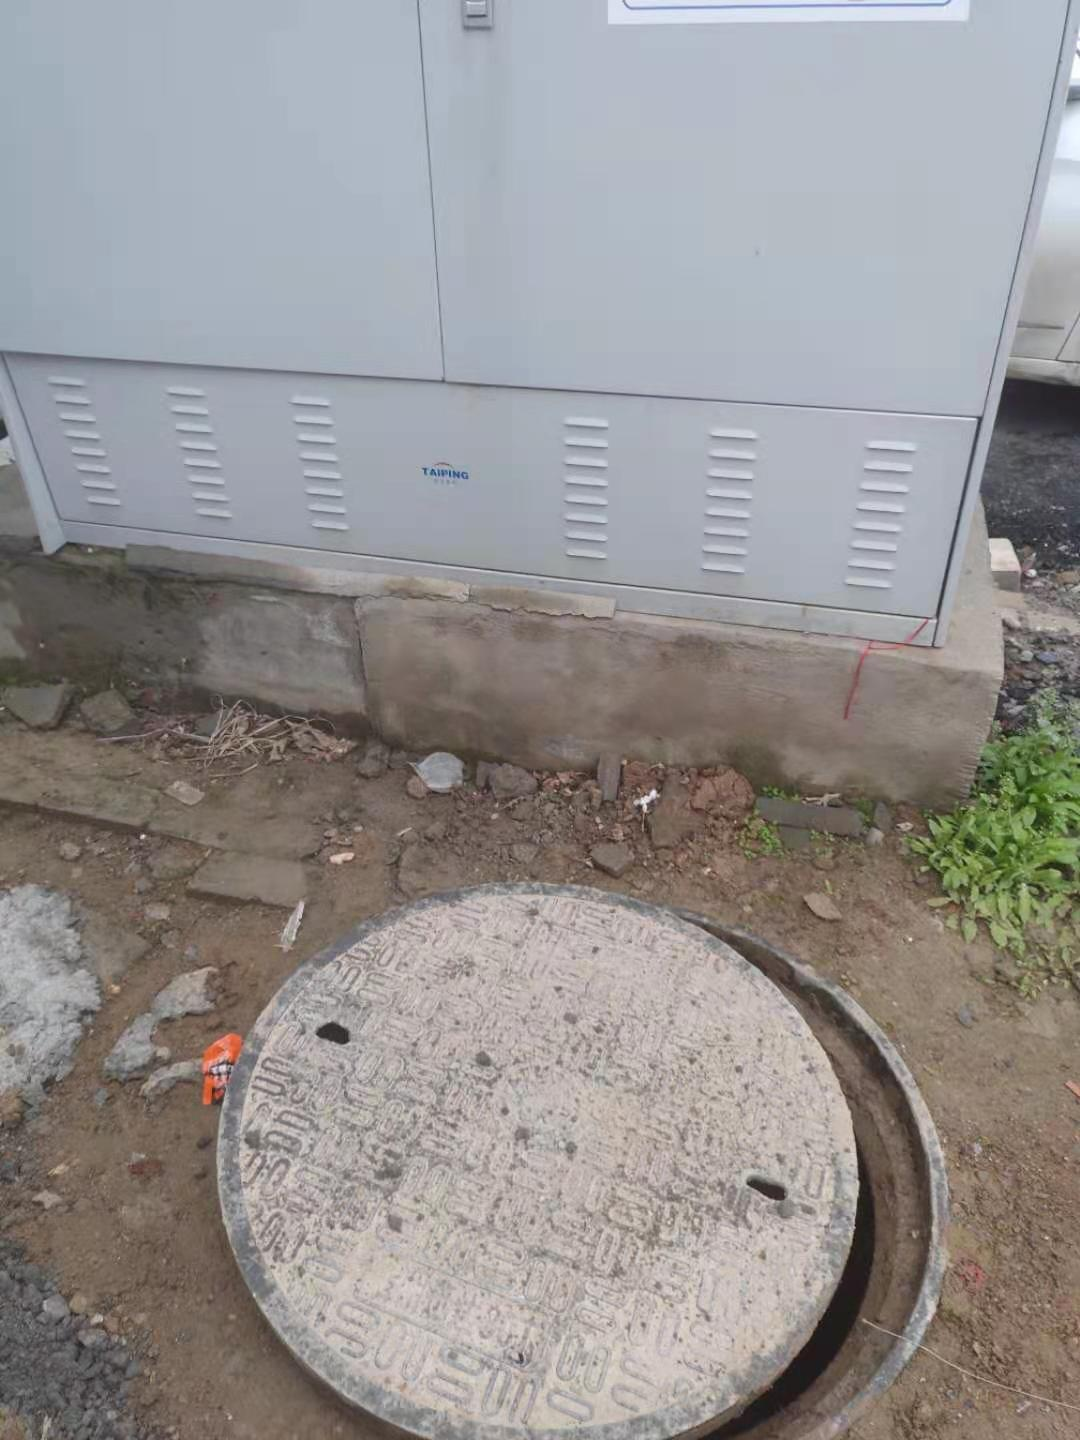well: (225, 878, 948, 1437)
